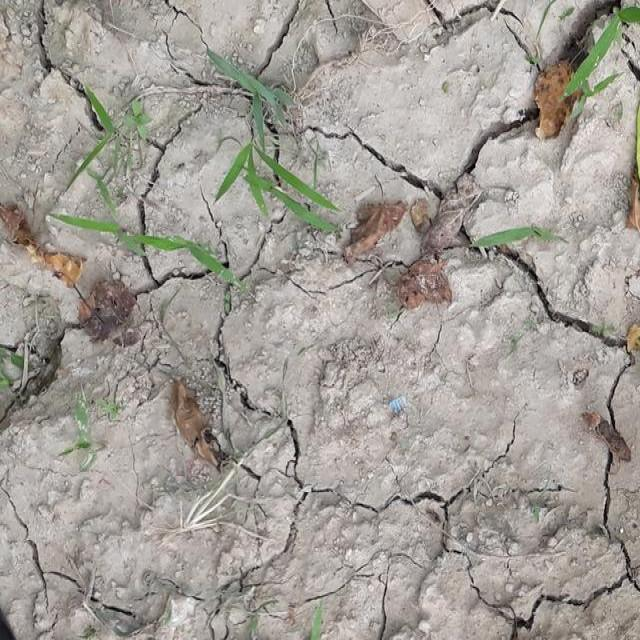weed: (217, 53, 325, 235), (61, 210, 232, 292), (68, 75, 160, 175), (569, 22, 619, 126), (476, 225, 572, 257)
